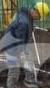boots: (1, 0, 1, 1)
gloves: (1, 1, 1, 1), (1, 1, 1, 1)
hard-hat: (34, 2, 50, 21)
ppe-suit: (0, 0, 2, 1)
vest: (1, 0, 1, 1)
